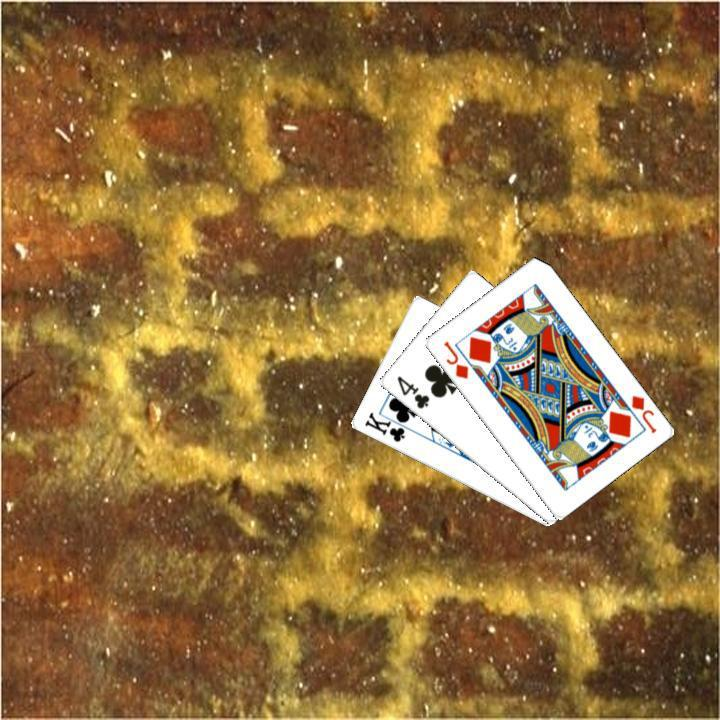4: (392, 372, 431, 411)
J: (626, 390, 658, 435), (438, 337, 470, 381)
K: (360, 407, 415, 444)
